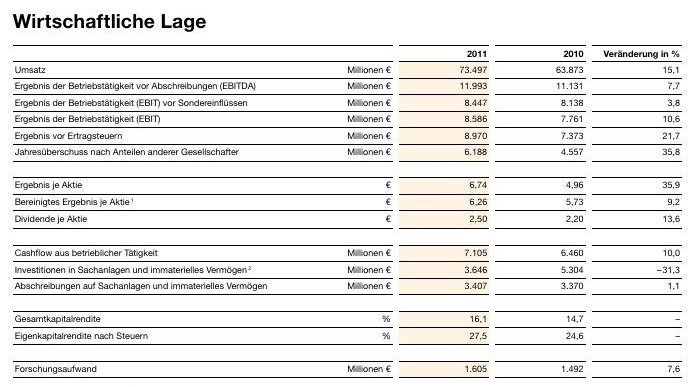table: (0, 0, 694, 387)
